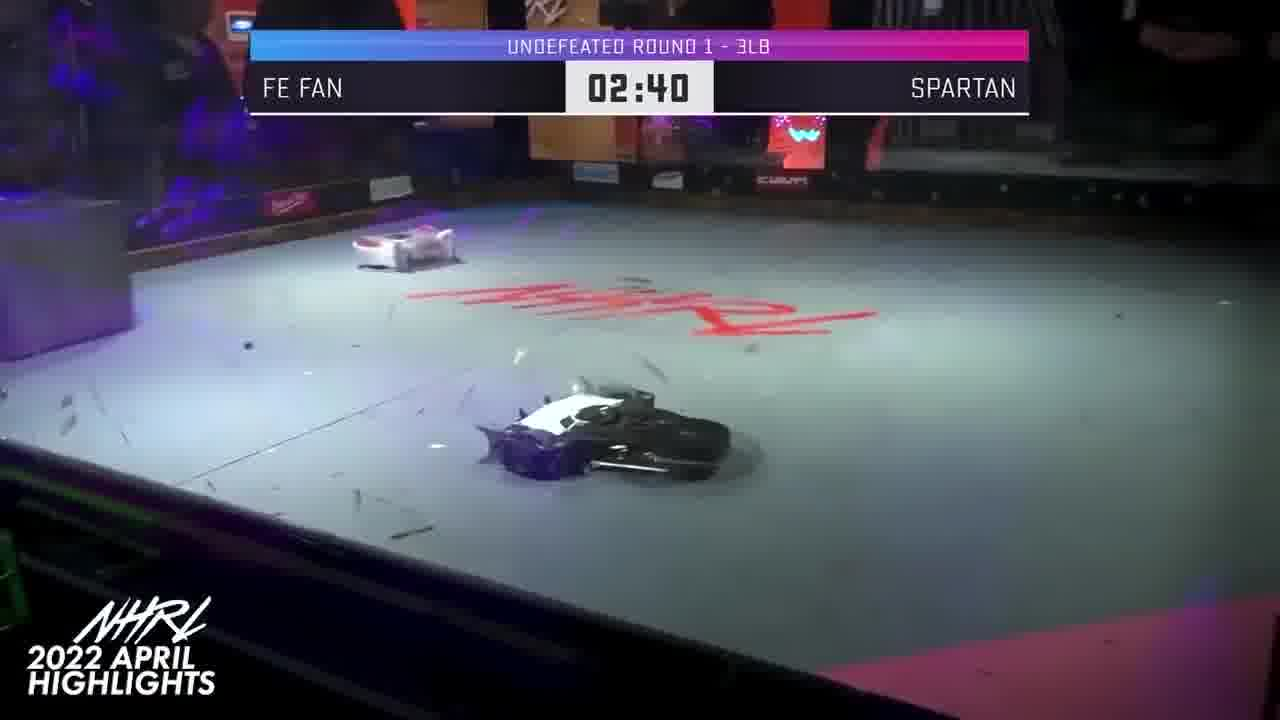combatbot: (475, 378, 730, 486), (352, 223, 464, 273)
housebot: (0, 197, 135, 364)
